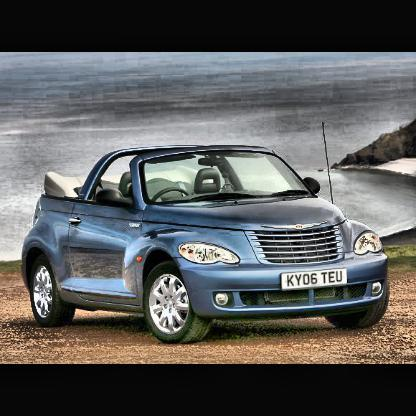Chrysler PT Cruiser Convertible 2008: (17, 142, 397, 349)
